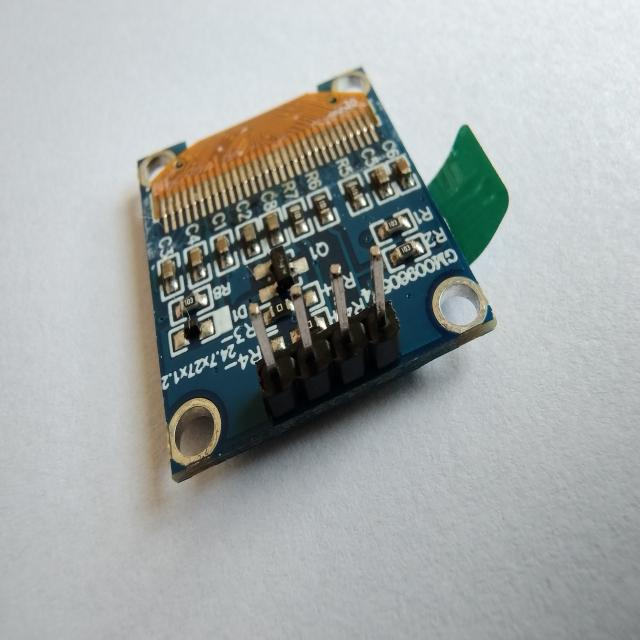oled: (87, 52, 530, 521)
